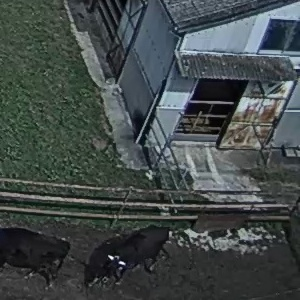cow: (71, 217, 189, 288), (1, 223, 74, 289)
